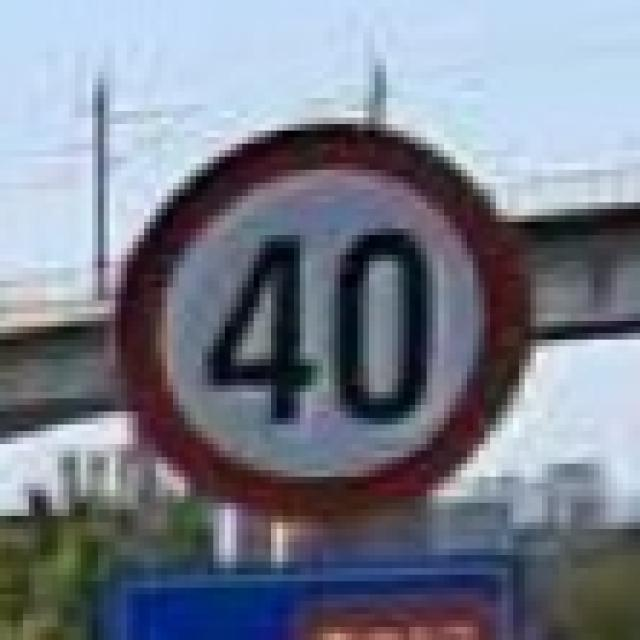Speed Limit -40-: (199, 222, 436, 426)
